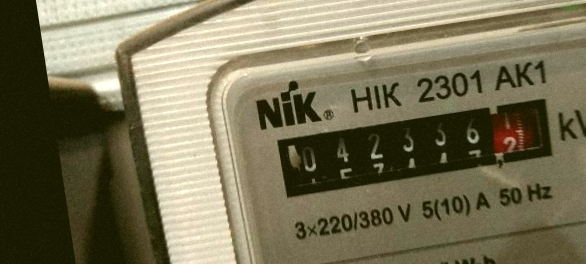0: (298, 143, 318, 173)
1: (498, 107, 513, 131)
2: (364, 129, 385, 160), (500, 133, 518, 153)
3: (427, 116, 448, 148), (396, 123, 415, 153)
4: (331, 133, 352, 164)
6: (461, 113, 483, 145)
screen: (263, 83, 568, 207)
